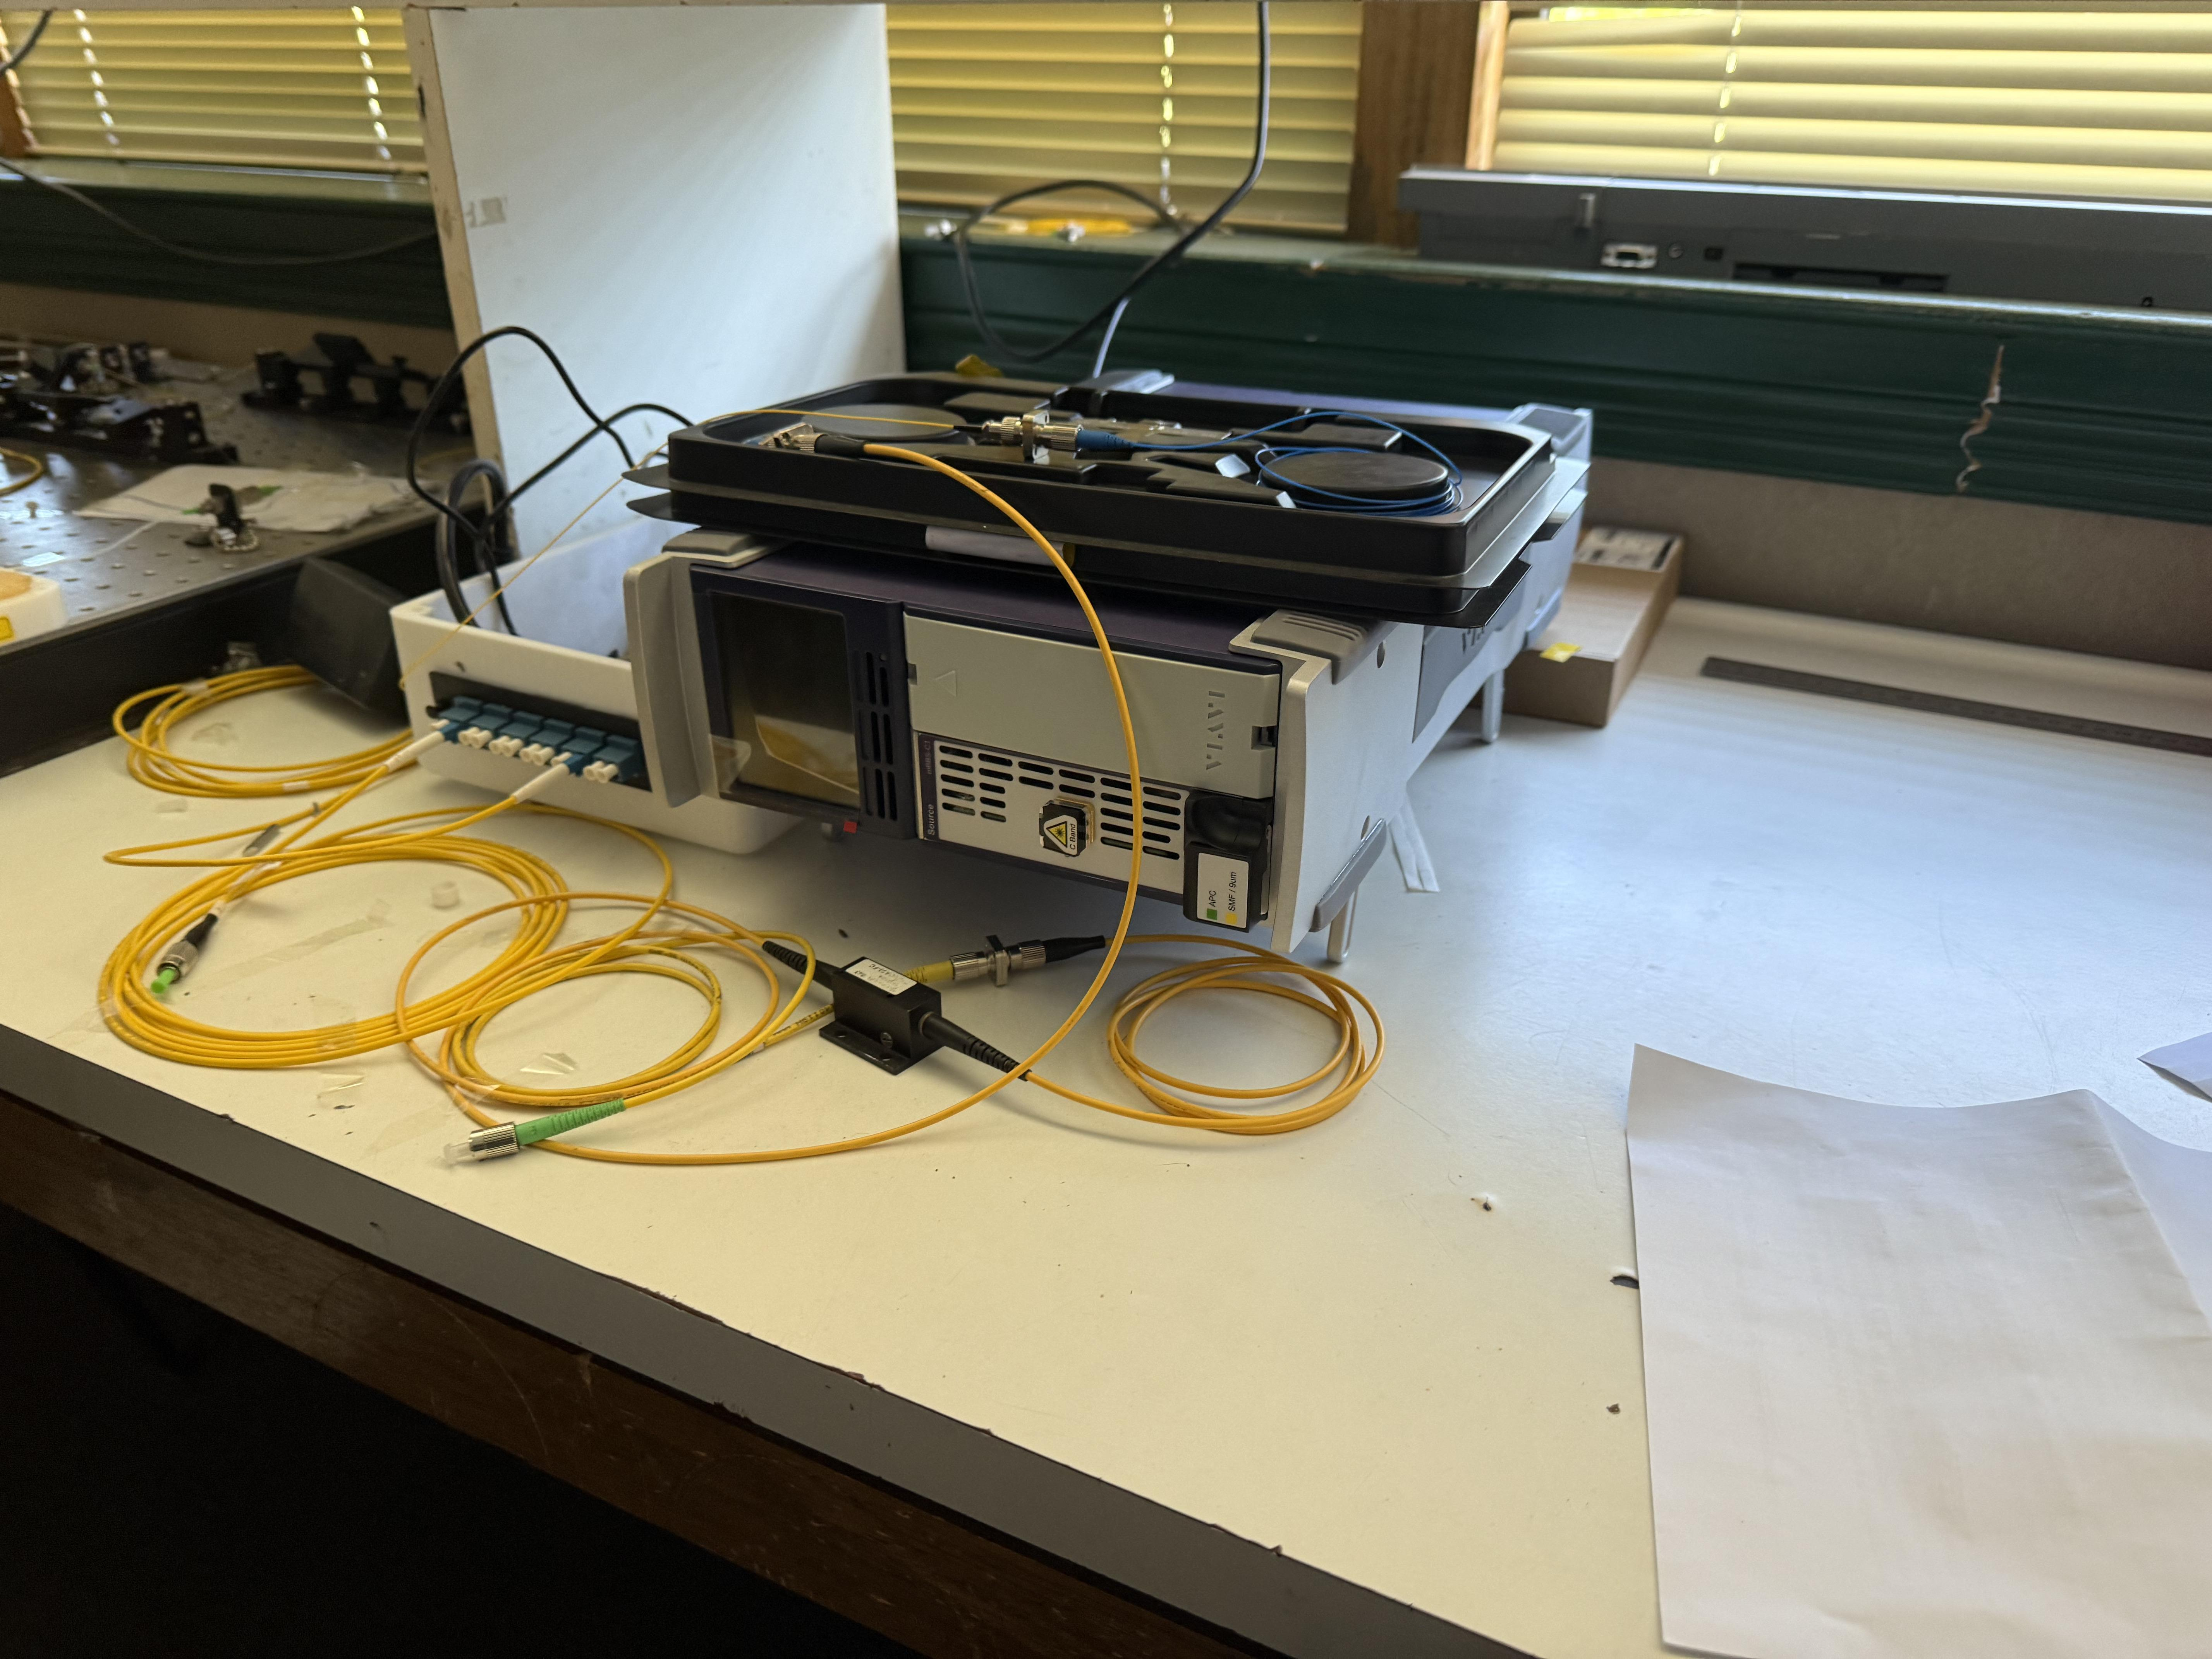fiber_cable: (80, 627, 1453, 1209)
laser: (611, 349, 1637, 992)
